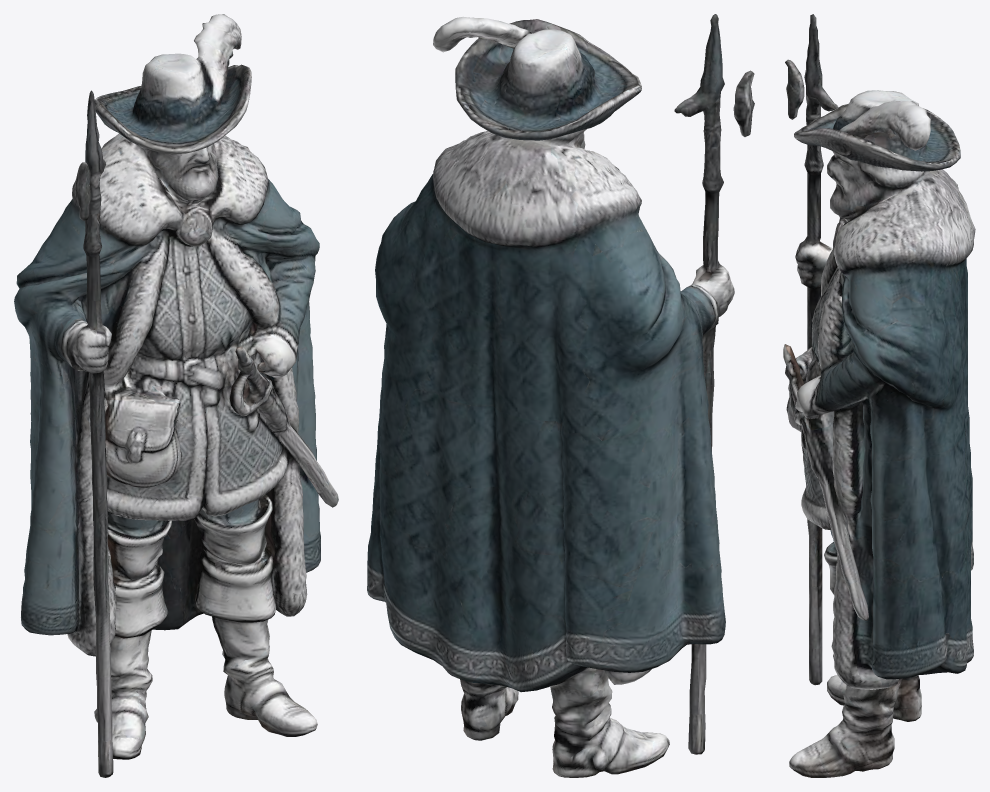
Rendered from Hanse_Captain.glb.
3 views of the same model, side by side, from view 1: azimuth 30°, elevation 25°; view 2: azimuth 150°, elevation 25°; view 3: azimuth 270°, elevation 25° (orthographic). The views are drawn at different scales.
Size of the model in its own units: 0.8963 by 1.91 by 0.501.
Materials: 1 (1 with a texture image).
